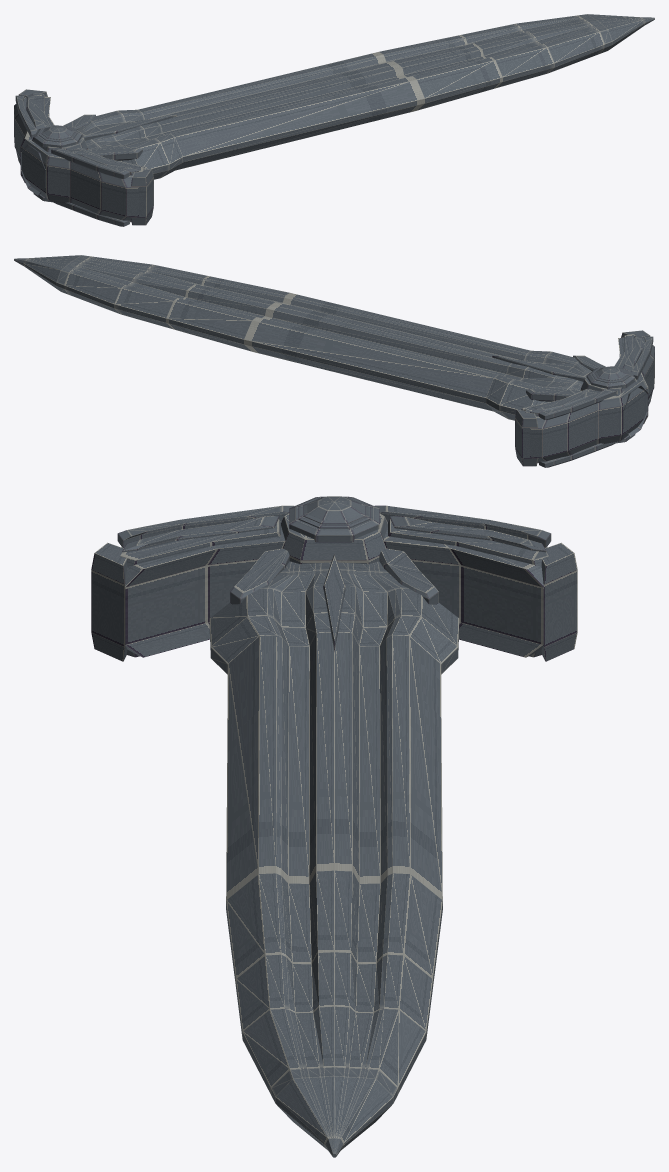
The model's file is bench_jindan_jinwu_sword_3.obj.
3 renders of one model, top to bottom at view 1: azimuth 30°, elevation 25°; view 2: azimuth 150°, elevation 25°; view 3: azimuth 270°, elevation 25°, orthographic. The views are drawn at different scales.
Visible parts, largest first — view 1: geometry; view 2: geometry; view 3: geometry.
Boxes of the visible parts, x1=… form: geometry: x1=14, y1=14, x2=654, y2=226; geometry: x1=14, y1=255, x2=654, y2=467; geometry: x1=91, y1=496, x2=577, y2=1157.
Size of the model in its own units: 0.75 by 0.0832 by 0.2542.
